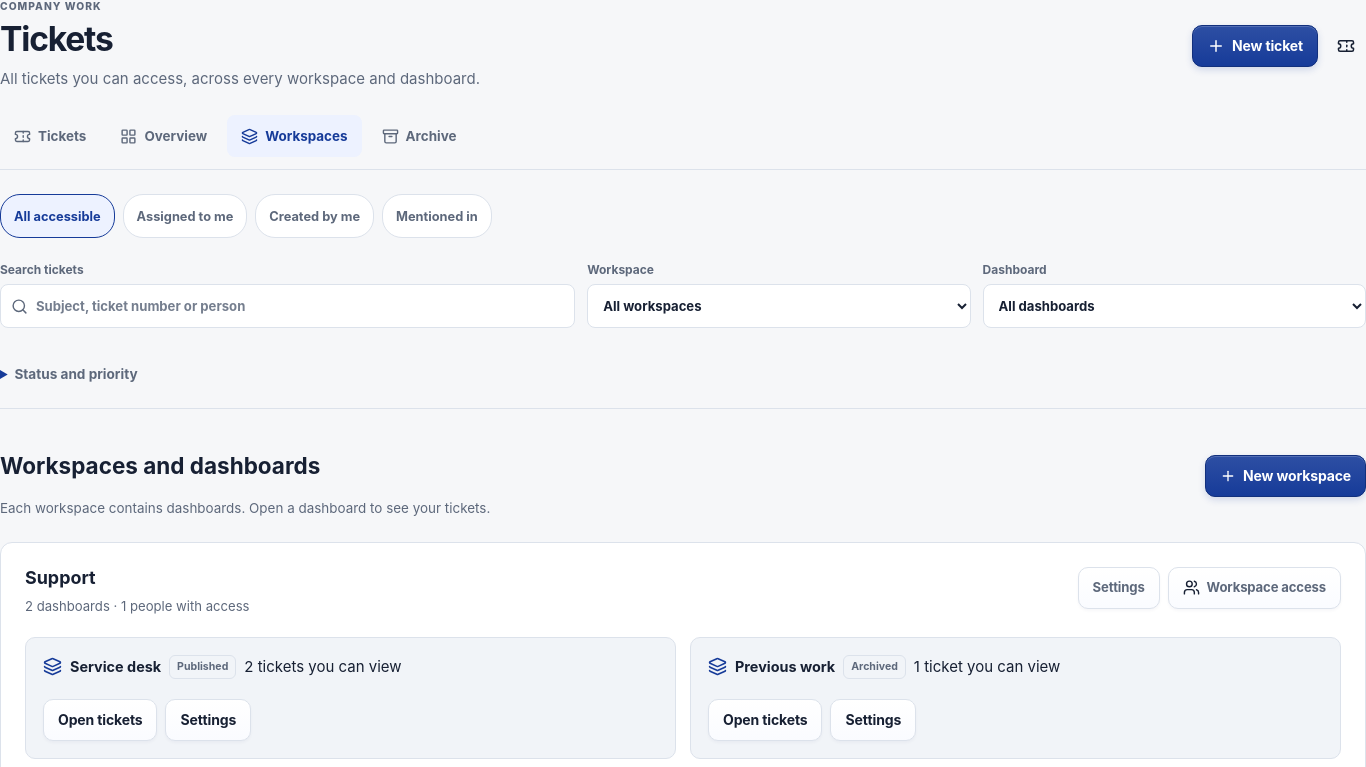
Test: Company ticket workspace › lets management correct workspace text using the current container version
Click the button with aria-label "Edit workspace Support": (1119, 588) [1078,567,1160,609]
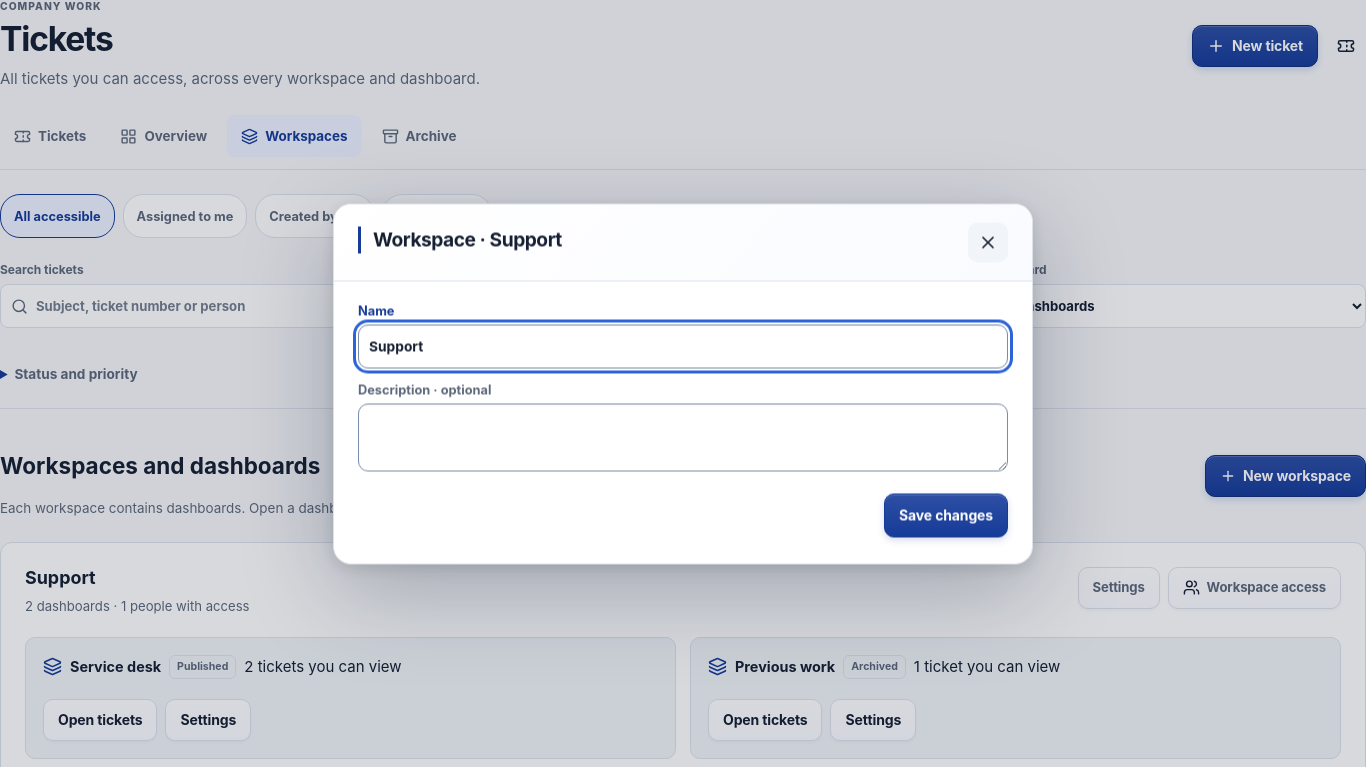
Replace the text in the field labelled "Name" with "Customer support": (683, 346) [358,324,1008,368]
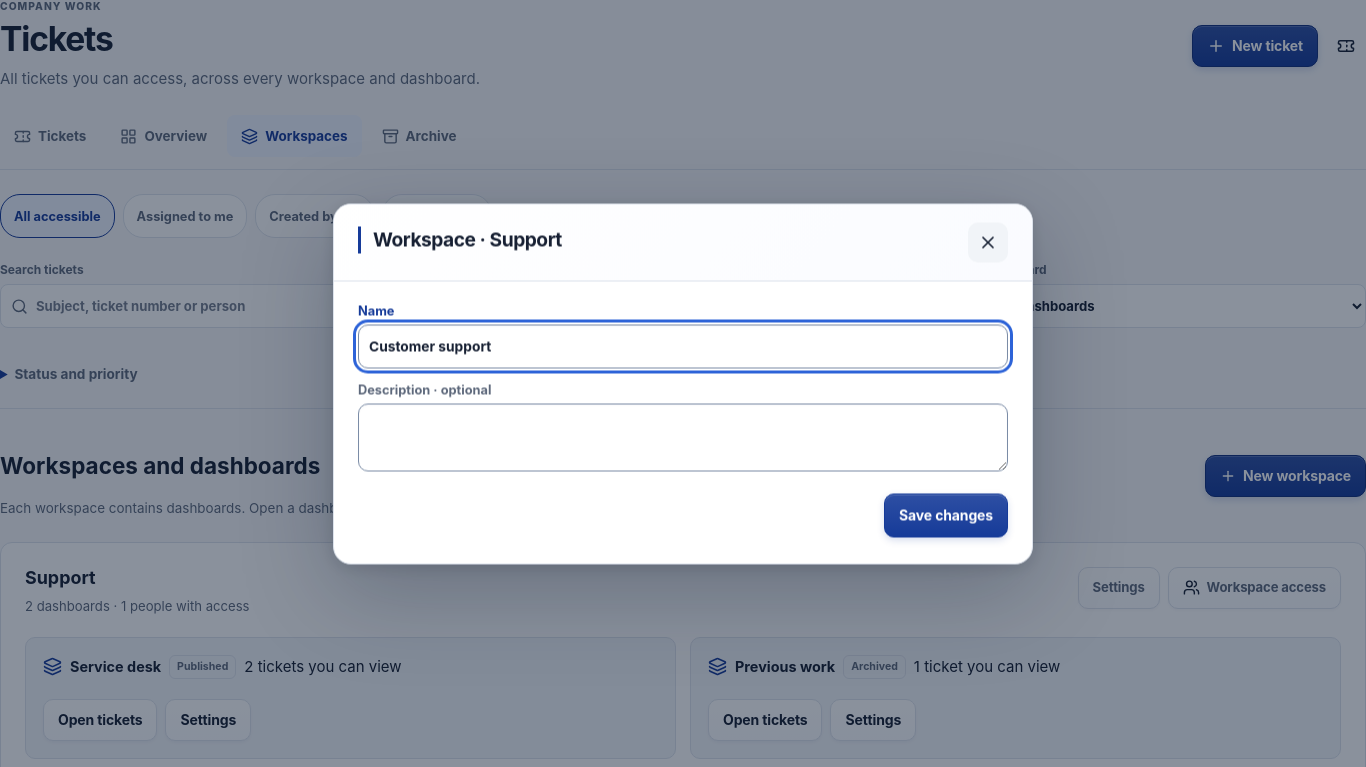
Submit the form named "Edit workspace Support", box [358,304,1008,538]
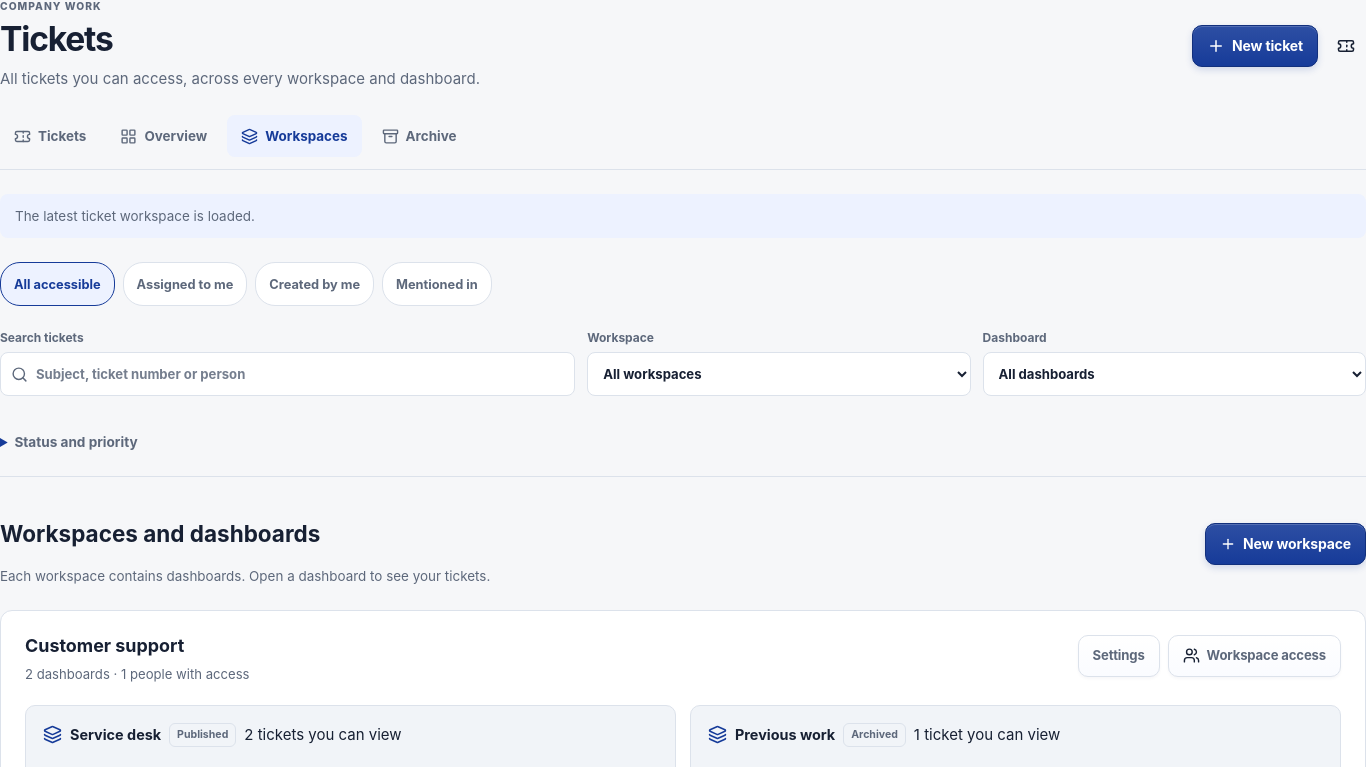
Check: the heading "Customer support" is shown, box [25,635,184,656]
